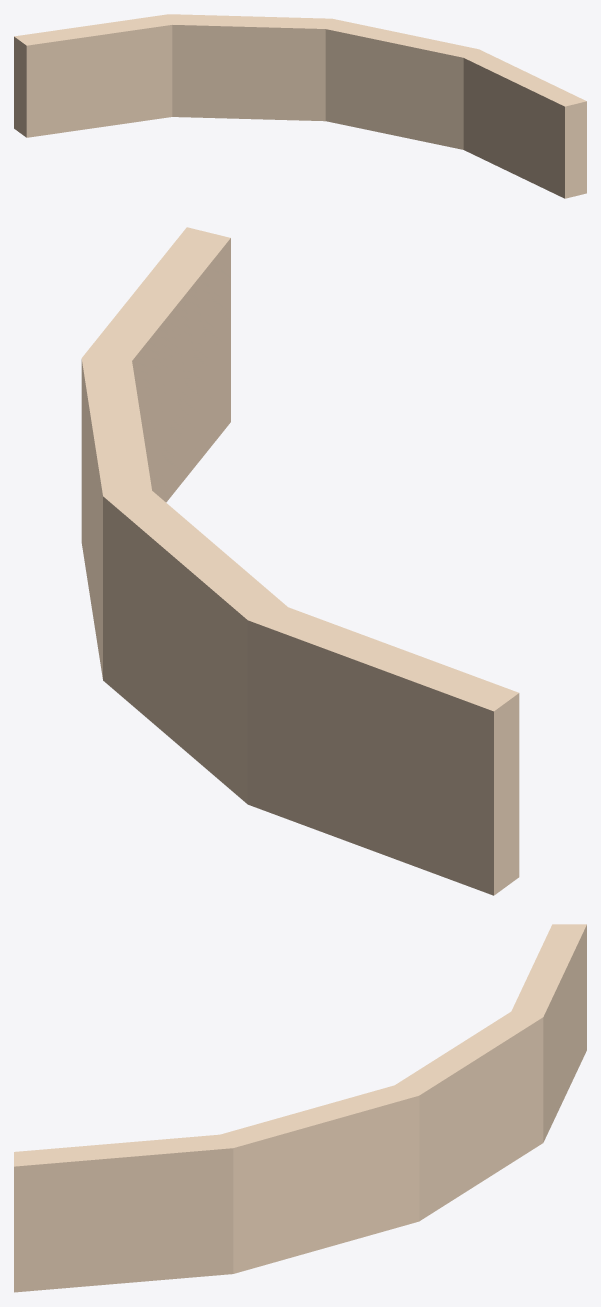
Rendered from Tiered_Retaining_Wall_Flat_Curve_4x4_Mid.glb.
3 views of the same model, one above another, from view 1: azimuth 30°, elevation 25°; view 2: azimuth 150°, elevation 25°; view 3: azimuth 270°, elevation 25° (orthographic). The views are drawn at different scales.
Visible parts, largest first — view 1: Tiered_Retaining_Wall_Flat_Curve_4x4_Mid; view 2: Tiered_Retaining_Wall_Flat_Curve_4x4_Mid; view 3: Tiered_Retaining_Wall_Flat_Curve_4x4_Mid.
Part boxes in pixels (x1,y1,x2,y2): Tiered_Retaining_Wall_Flat_Curve_4x4_Mid: [14, 14, 586, 198]; Tiered_Retaining_Wall_Flat_Curve_4x4_Mid: [81, 227, 519, 895]; Tiered_Retaining_Wall_Flat_Curve_4x4_Mid: [14, 924, 586, 1292].
Size of the model in its own units: 412 by 100 by 413.
